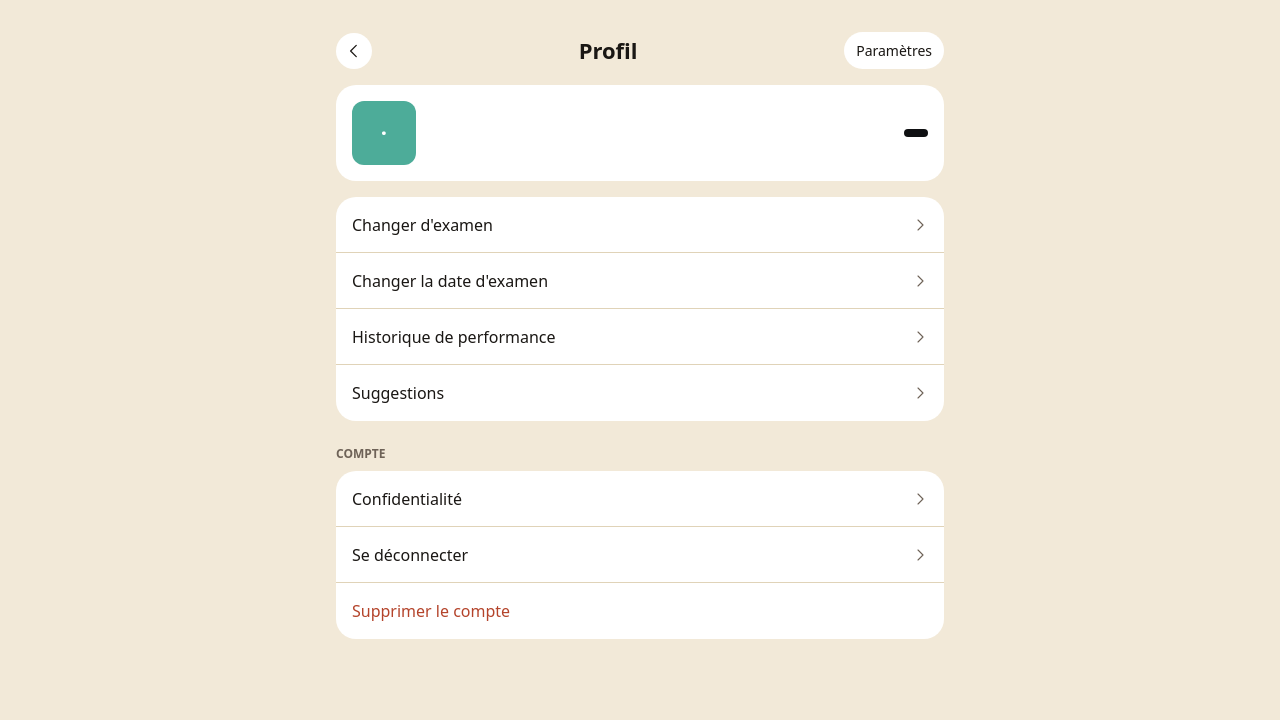
ProfilScreen (S11.4) › sign-out dialog cancel closes without signing out
Click the button with test id "profil-account-sign-out" at (410, 554), box [336,527,944,583]
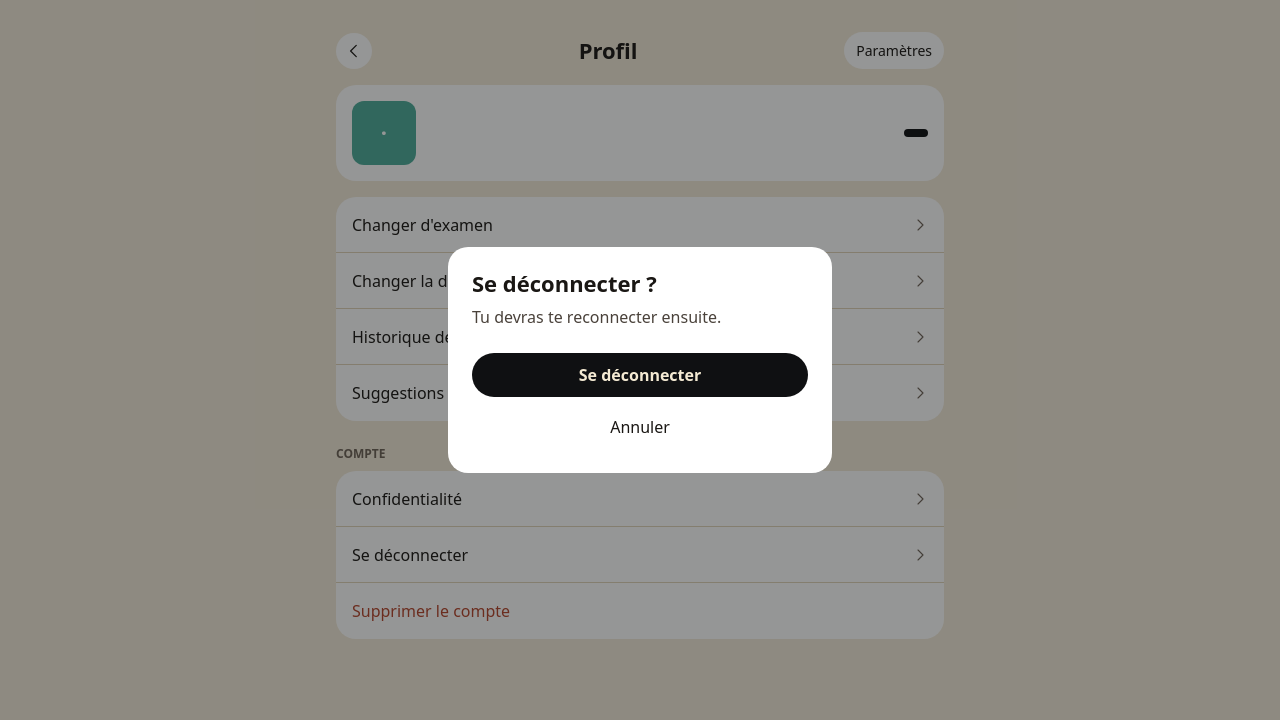
Result: the dialog with test id "profil-signout-dialog" is shown at [448,247,832,473]
Click the button with test id "profil-signout-cancel" at (640, 427), box [472,405,808,449]
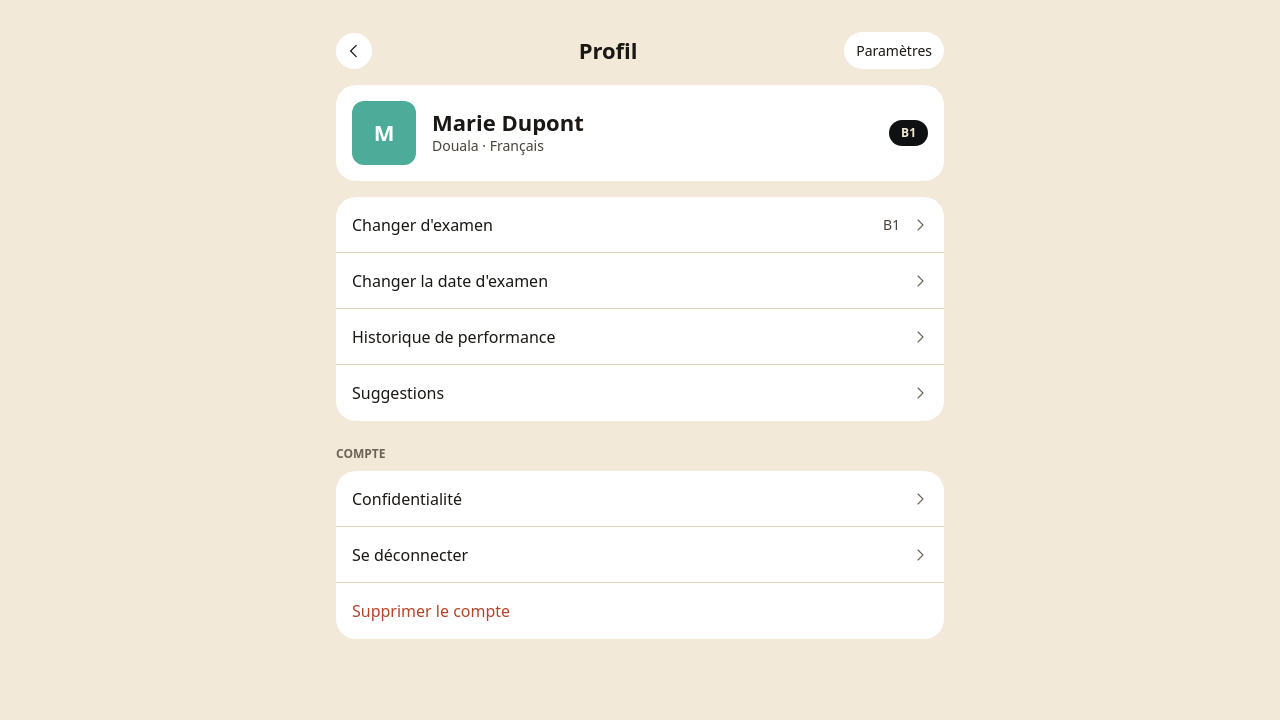
Result: the dialog with test id "profil-signout-dialog" is gone
